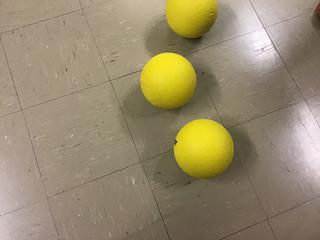power_cell: (166, 111, 237, 183), (140, 51, 203, 107)
